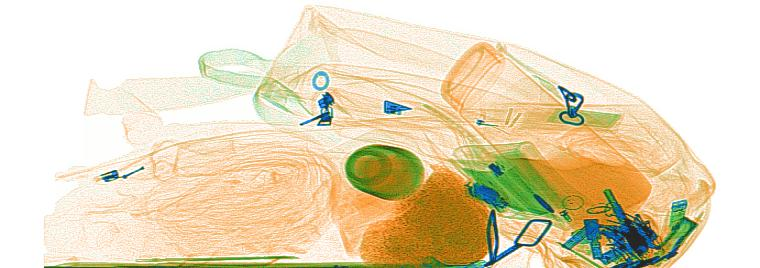battery: (467, 178, 502, 205)
